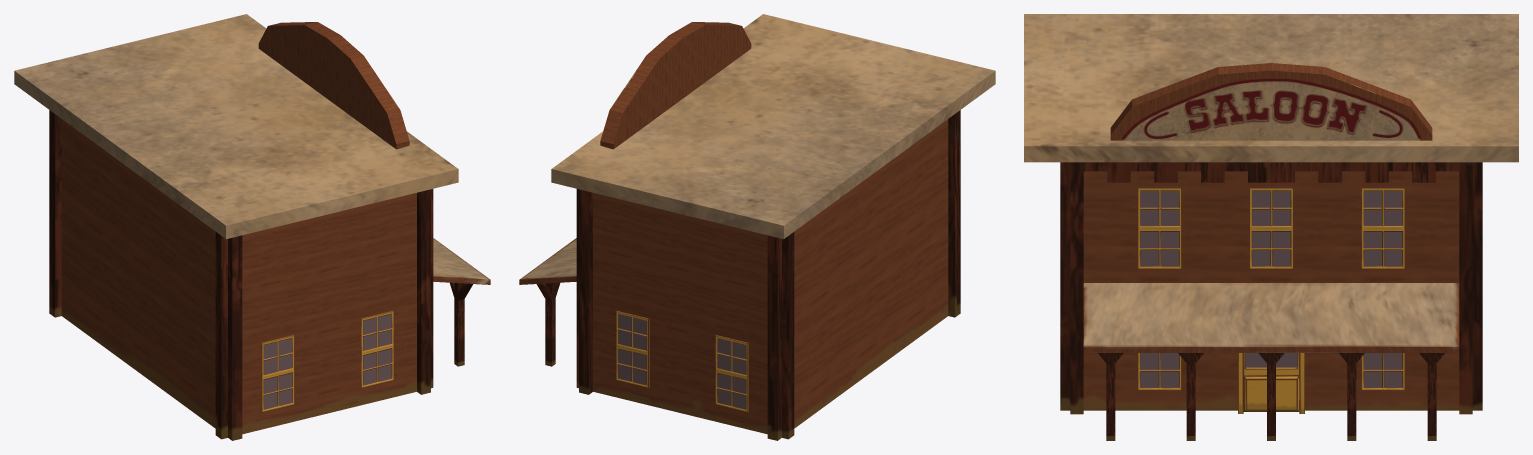
File: r_saloon (1).fbx
3 renders of one model, left to right at view 1: azimuth 30°, elevation 25°; view 2: azimuth 150°, elevation 25°; view 3: azimuth 270°, elevation 25°, orthographic. The views are drawn at different scales.
Parts seen in each view (by area): view 1: Saloon; view 2: Saloon; view 3: Saloon.
Part boxes in pixels (<box>): Saloon: <box>14,14,490,440</box>; Saloon: <box>519,14,995,440</box>; Saloon: <box>1024,14,1518,440</box>.
Bounding box in the file's own units: 876 × 840 × 1108.
1 material, 1 textured.
